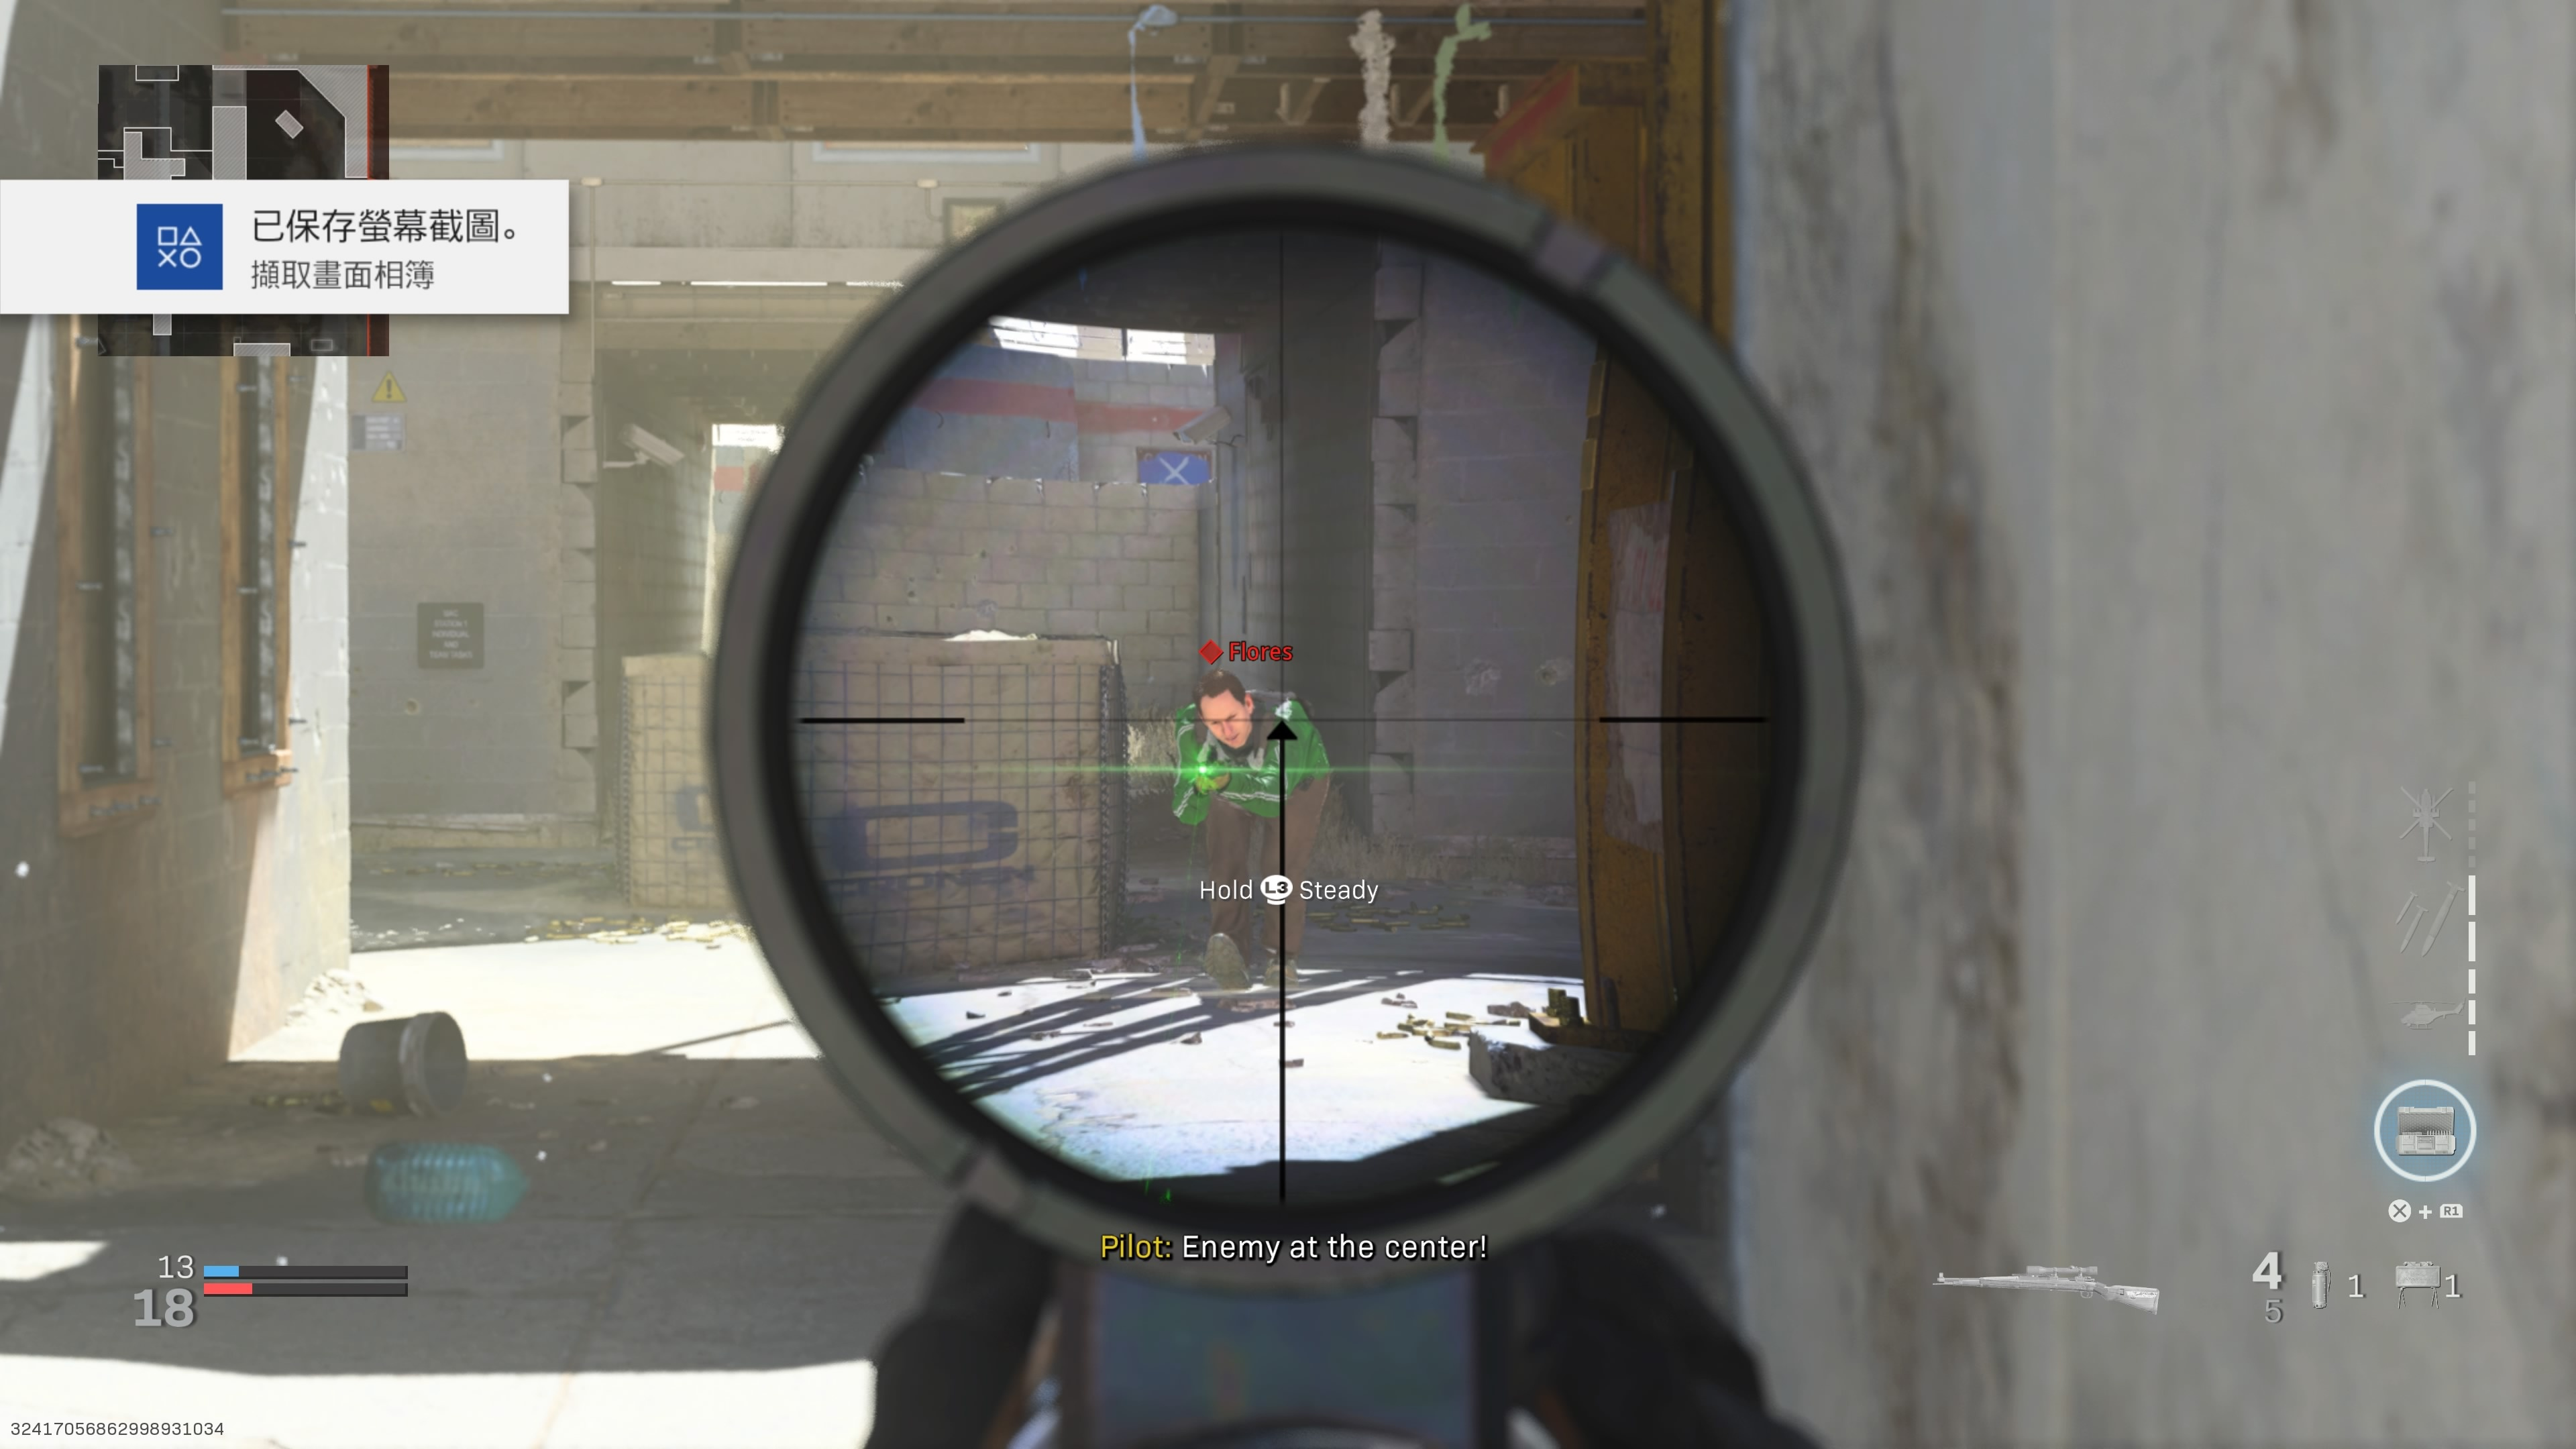head: (1189, 668, 1256, 751)
person: (1173, 655, 1326, 1005)
